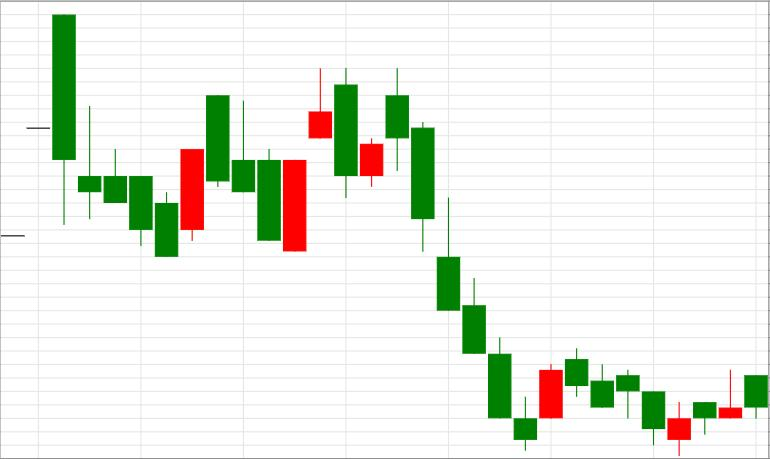morning_star_rise: (386, 68, 562, 450)
